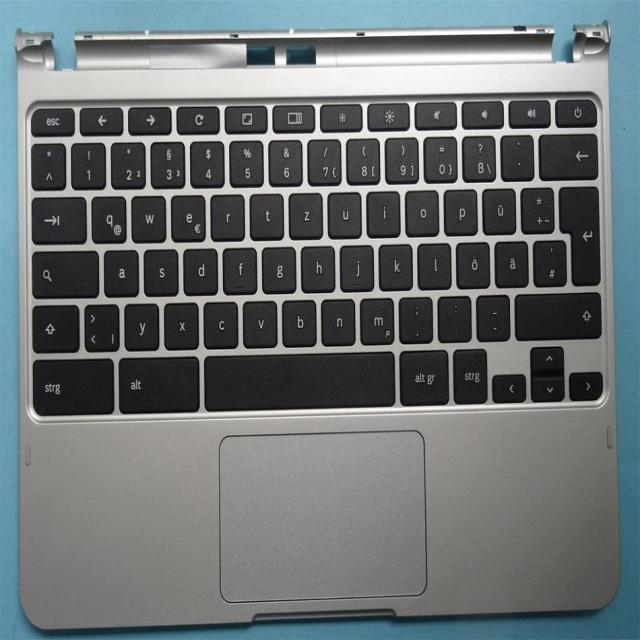0: (420, 132, 456, 180)
1: (69, 138, 104, 186)
2: (109, 137, 144, 186)
3: (148, 137, 185, 185)
4: (188, 136, 223, 184)
5: (227, 136, 263, 184)
6: (266, 136, 302, 183)
7: (305, 135, 340, 183)
8: (343, 134, 379, 182)
9: (382, 133, 418, 181)
a: (101, 245, 137, 294)
accent: (499, 130, 532, 176)
ae: (492, 237, 527, 284)
alt-left: (116, 352, 199, 412)
altgr-right: (396, 346, 448, 404)
b: (280, 296, 316, 343)
c: (201, 297, 236, 346)
caret: (28, 138, 64, 187)
comma: (396, 293, 432, 339)
d: (181, 245, 216, 292)
del: (536, 129, 597, 176)
e: (169, 191, 204, 239)
enter: (556, 179, 599, 284)
f: (220, 244, 256, 291)
g: (259, 243, 295, 290)
h: (299, 242, 334, 289)
hash: (530, 235, 565, 284)
i: (364, 187, 399, 233)
j: (338, 240, 373, 288)
k: (376, 239, 411, 287)
keyboard: (18, 88, 610, 422)
l: (415, 239, 450, 286)
less: (81, 300, 118, 349)
m: (357, 293, 393, 342)
minus: (473, 291, 509, 338)
n: (319, 294, 354, 343)
o: (402, 186, 438, 233)
oe: (454, 238, 489, 285)
p: (442, 185, 477, 232)
plus: (518, 183, 553, 230)
point: (435, 291, 470, 339)
q: (89, 191, 126, 241)
r: (208, 190, 243, 238)
s: (142, 246, 177, 293)
shift-left: (29, 300, 77, 350)
shift-lock: (28, 246, 99, 299)
shift-right: (512, 287, 601, 344)
space: (202, 348, 393, 408)
ss: (460, 131, 495, 179)
strg-left: (26, 354, 114, 415)
strg-right: (450, 344, 486, 401)
t: (249, 189, 284, 236)
tab: (28, 191, 85, 241)
u: (326, 188, 361, 235)
ue: (480, 184, 515, 231)
v: (241, 296, 276, 344)
w: (129, 191, 165, 239)
x: (162, 299, 198, 346)
y: (122, 299, 158, 348)
z: (286, 189, 322, 236)
